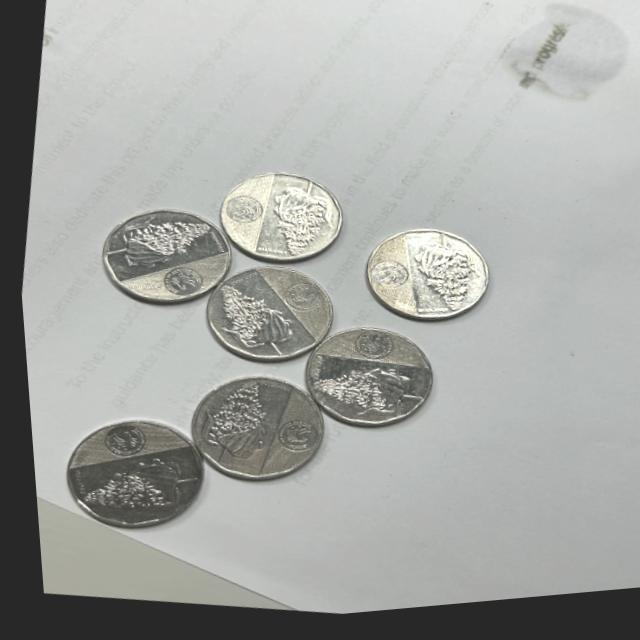10_New_Back: (77, 434, 199, 543), (99, 199, 214, 293), (388, 231, 483, 337), (307, 355, 422, 442), (195, 371, 284, 479), (203, 273, 293, 359), (257, 180, 333, 269)
